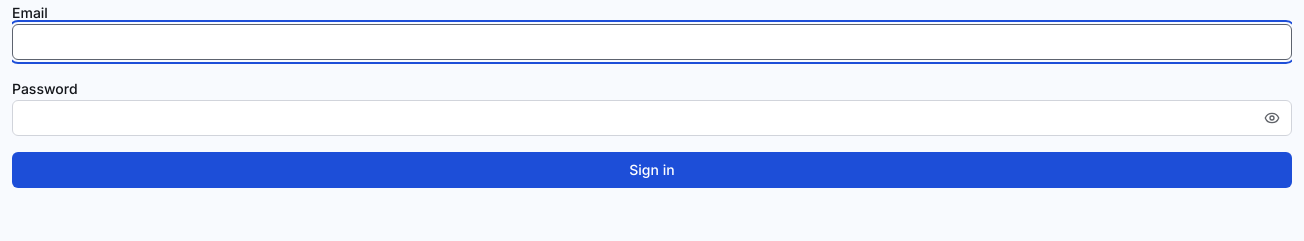
Test: PlatformLoginForm › shows a non-login failure (e.g. a CSRF rejection) verbatim instead of the generic credentials message
The width and height of the screenshot is (1304, 241).
Type "admin@example.com" into the field labelled "Email" at (652, 42), box top-left (12, 24), bottom-right (1292, 60)
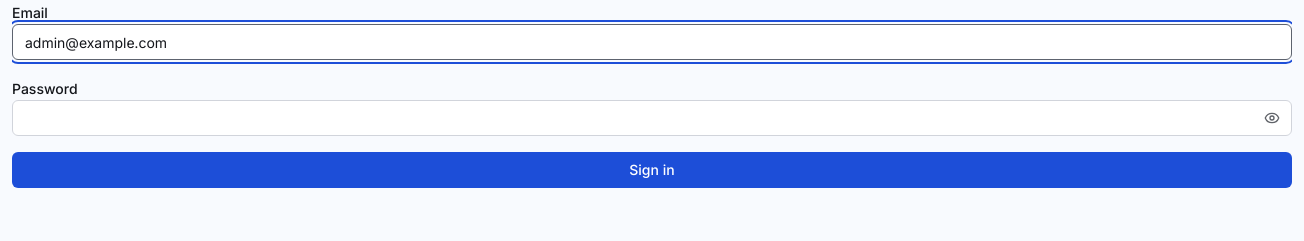
Type "right" into the password field labelled "Password" at (652, 118), box top-left (12, 100), bottom-right (1292, 136)
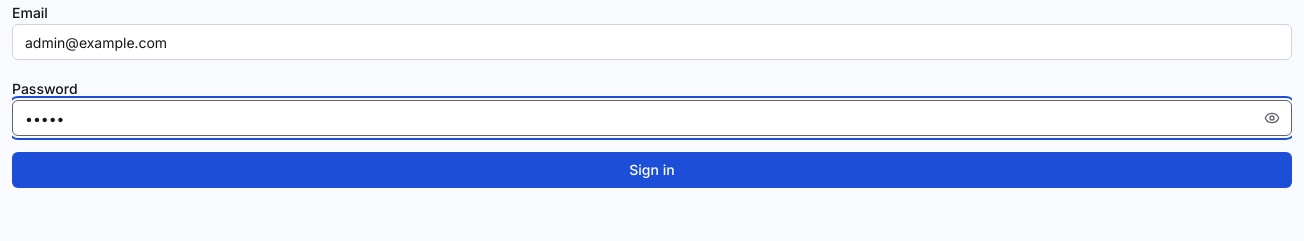
Click the button "Sign in" at (652, 170), box top-left (12, 152), bottom-right (1292, 188)
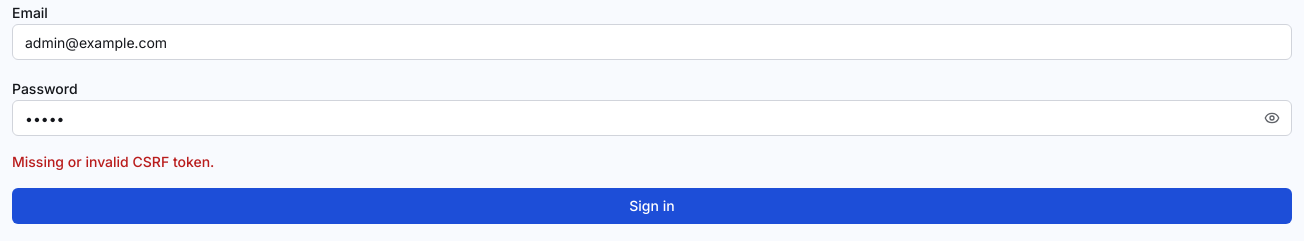
Check: the message shows "Missing or invalid CSRF token", box top-left (12, 153), bottom-right (214, 170)
